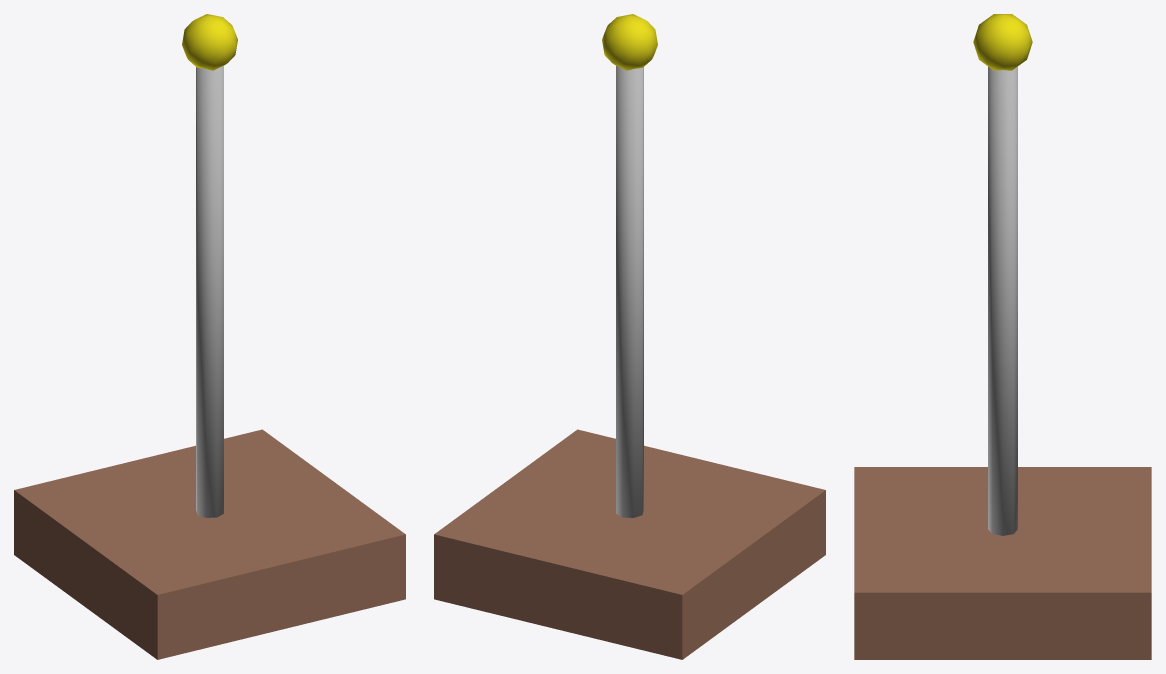
Rendered from Lamp.glb.
3 renders of one model, left to right at view 1: azimuth 30°, elevation 25°; view 2: azimuth 150°, elevation 25°; view 3: azimuth 270°, elevation 25°, orthographic. The views are drawn at different scales.
Visible parts, largest first — view 1: base, pole, bulb; view 2: base, pole, bulb; view 3: base, pole, bulb.
Part boxes in pixels (x1,y1,x2,y2): base: (14,429,405,659); pole: (196,65,223,517); bulb: (182,14,237,70); base: (434,429,825,659); pole: (616,65,643,517); bulb: (602,14,657,70); base: (854,467,1151,659); pole: (988,66,1017,535); bulb: (973,14,1032,70).
Size of what is drawn, in the model's own units: 0.12 by 0.2589 by 0.12.
